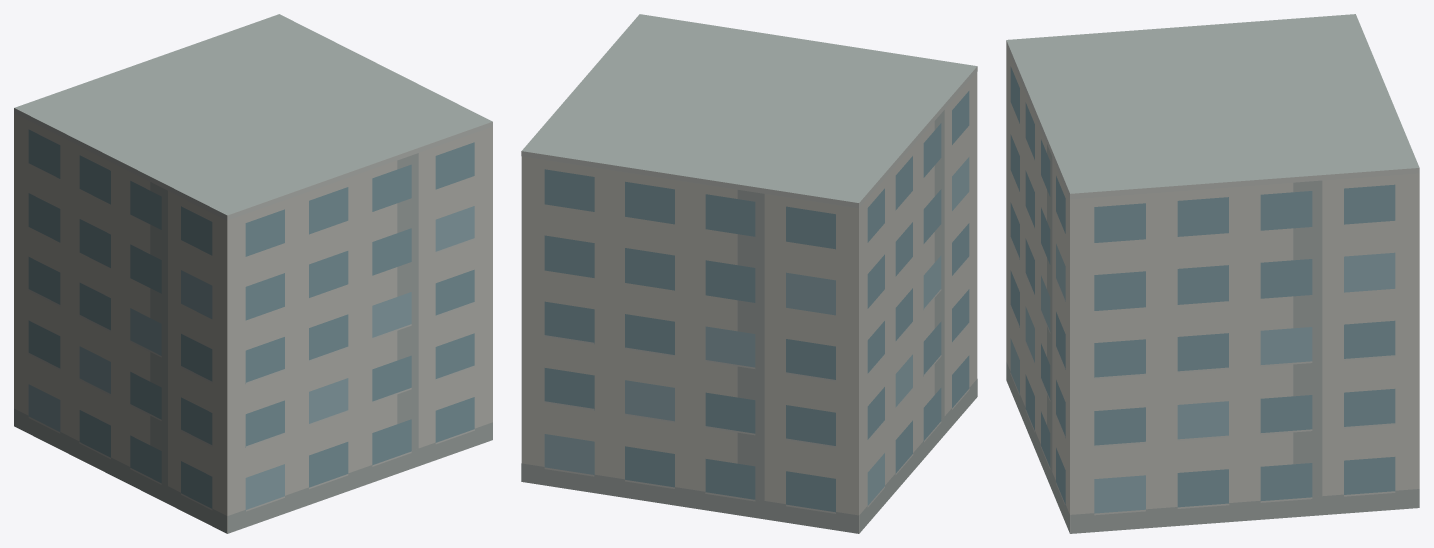
Rendered from residential-a36c5a9d-c7f1-4b1a-9692-9c07914c05c6.glb.
3 views of the same model, side by side, from view 1: azimuth 30°, elevation 25°; view 2: azimuth 150°, elevation 25°; view 3: azimuth 270°, elevation 25° (orthographic). The views are drawn at different scales.
Visible parts, largest first — view 1: residential-a36c5a9d-c7f1-4b1a-9692-9c07914c05c6.tmp; view 2: residential-a36c5a9d-c7f1-4b1a-9692-9c07914c05c6.tmp; view 3: residential-a36c5a9d-c7f1-4b1a-9692-9c07914c05c6.tmp.
Part boxes in pixels (box(x1,y1,x2,y2)): residential-a36c5a9d-c7f1-4b1a-9692-9c07914c05c6.tmp: box(14, 14, 492, 533); residential-a36c5a9d-c7f1-4b1a-9692-9c07914c05c6.tmp: box(521, 14, 977, 533); residential-a36c5a9d-c7f1-4b1a-9692-9c07914c05c6.tmp: box(1006, 14, 1419, 533).
Bounding box in the file's own units: 17.3 × 15.25 × 16.81.
